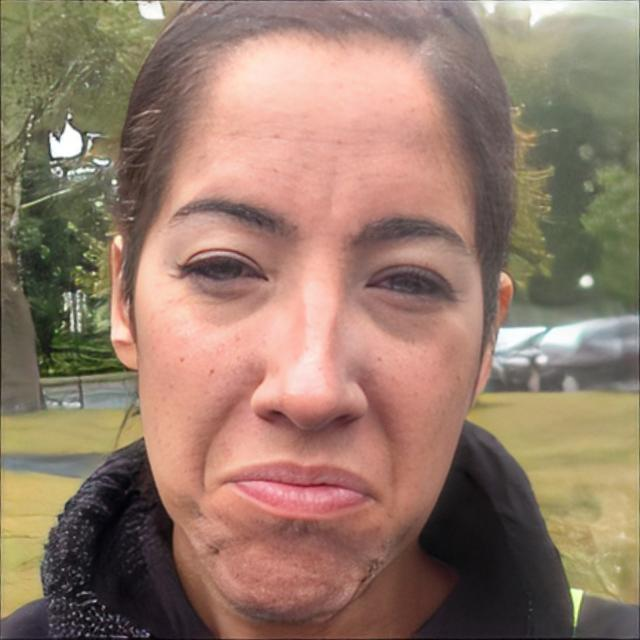disgust: (130, 17, 484, 628)
